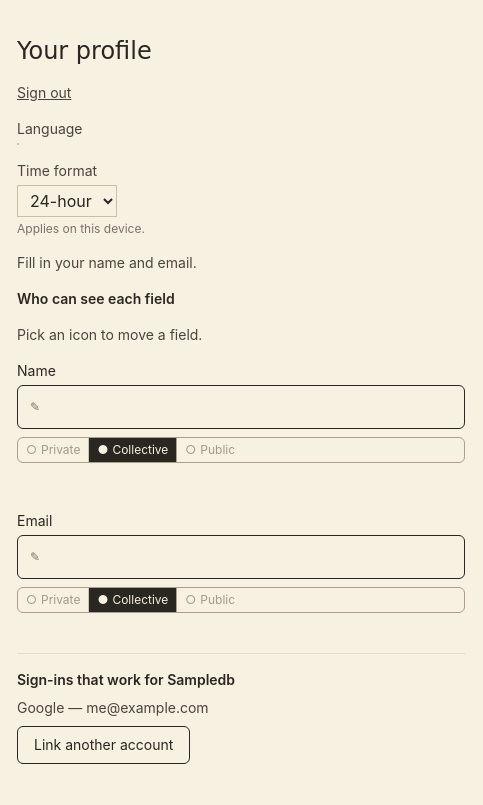
Test: /profile — "Link another account" flow (#193 AC2/AC3: native controls, mint at click time) › a mint failure (e.g. missing self-_editor) surfaces a LOUD named error — no silent fallback, no launch
The width and height of the screenshot is (483, 805).
Expected: the element with test id "profile-field-name" is shown, [17, 361, 465, 487]
Click the button with test id "profile-link-another": (104, 745) [17, 726, 190, 764]
(page scrolled)
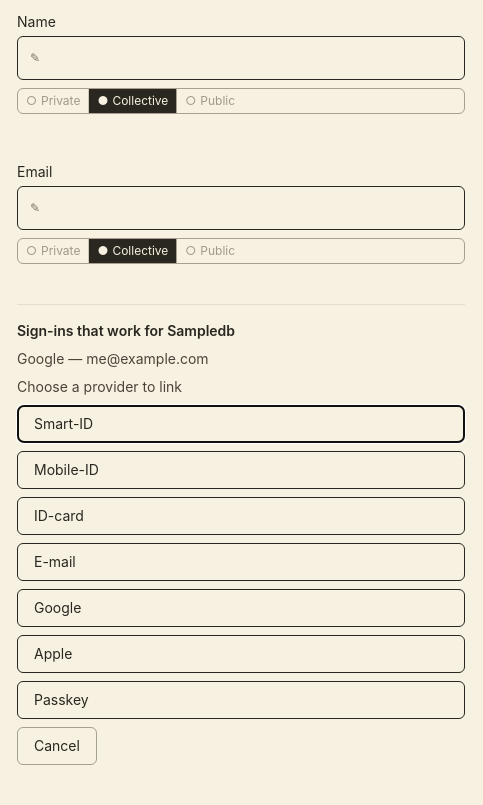
Expected: the button with test id "profile-link-provider-apple" is shown
Click the button with test id "profile-link-provider-apple": (53, 654) [17, 635, 465, 673]
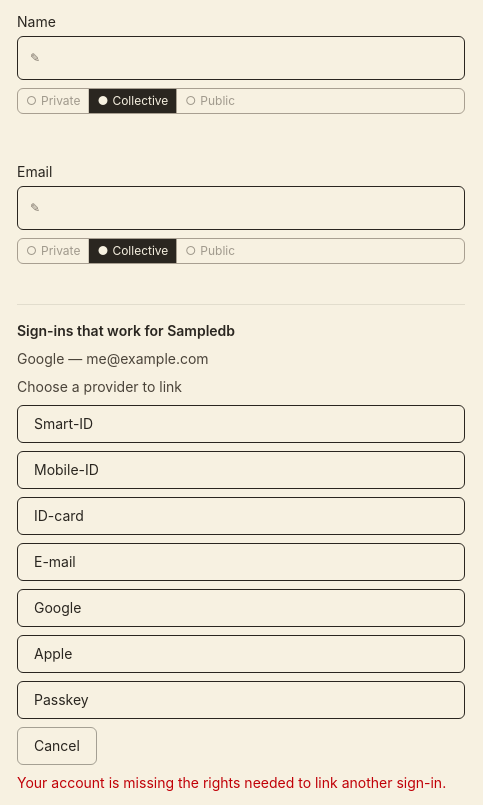
Expected: the message "Your account is missing the rights needed to link another sign-in." is shown, [17, 773, 465, 793]
Expected: the message with test id "profile-link-error" reads "Your account is missing the rights needed to link another sign-in.", [17, 774, 446, 791]
